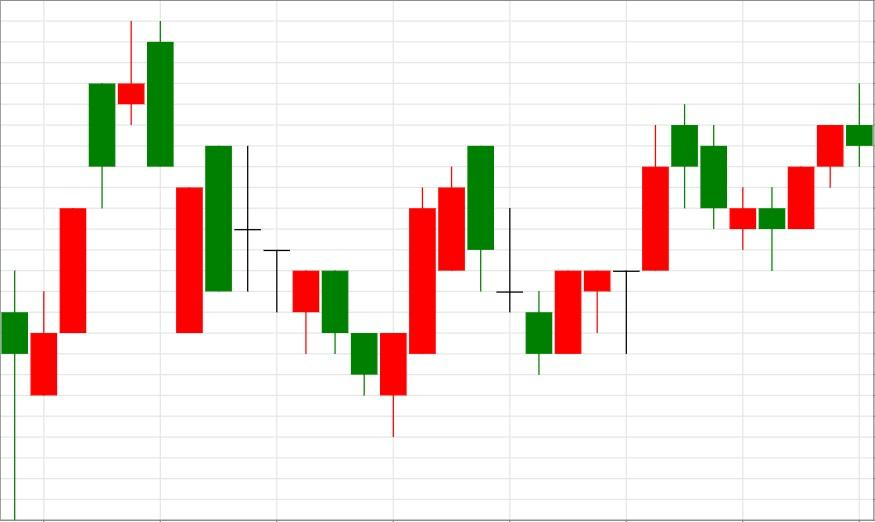bearish_engulfing_fall: (30, 19, 175, 396)
bullish_engulfing_rise: (204, 144, 408, 438)
